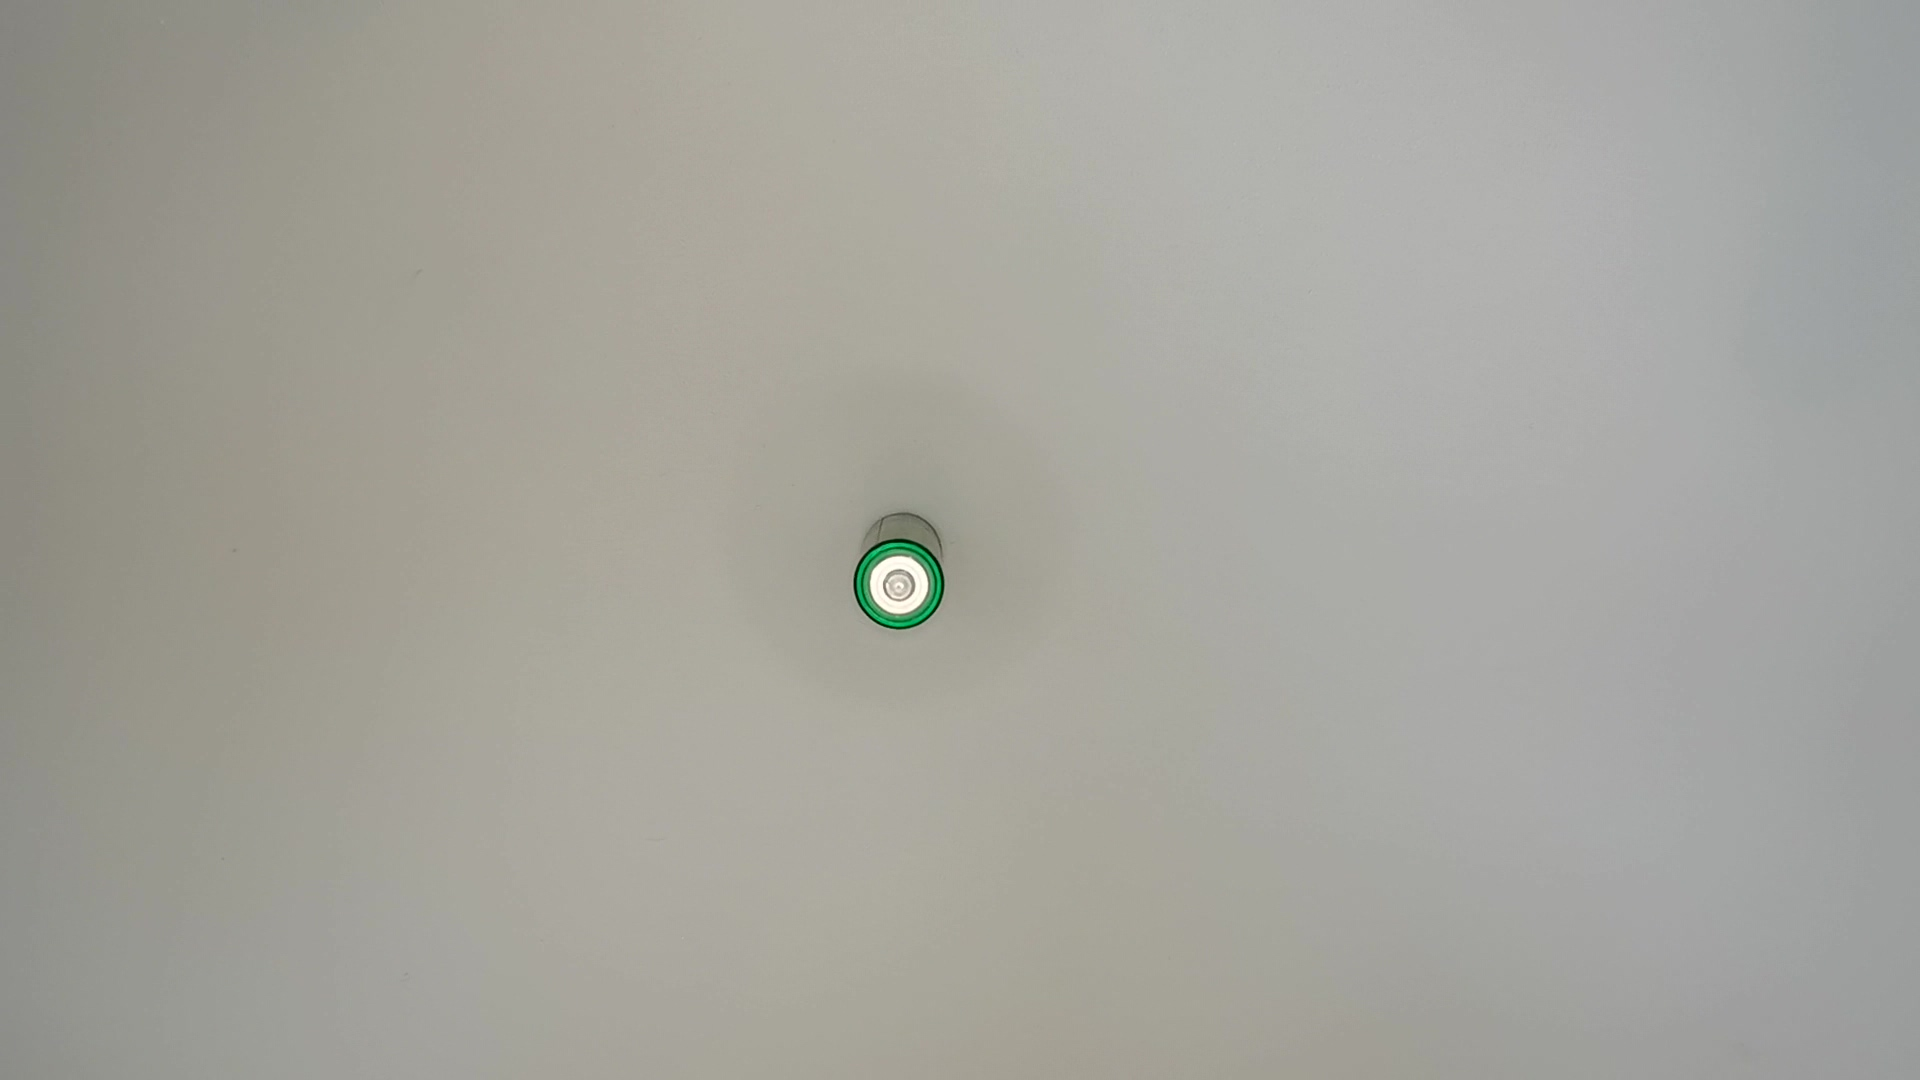battery: (849, 512, 963, 637)
